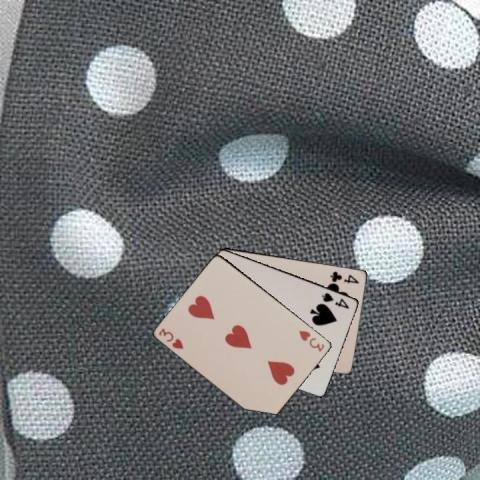3h: (296, 327, 326, 353), (156, 325, 185, 351)
4c: (327, 268, 361, 285)
4s: (318, 289, 350, 310)
